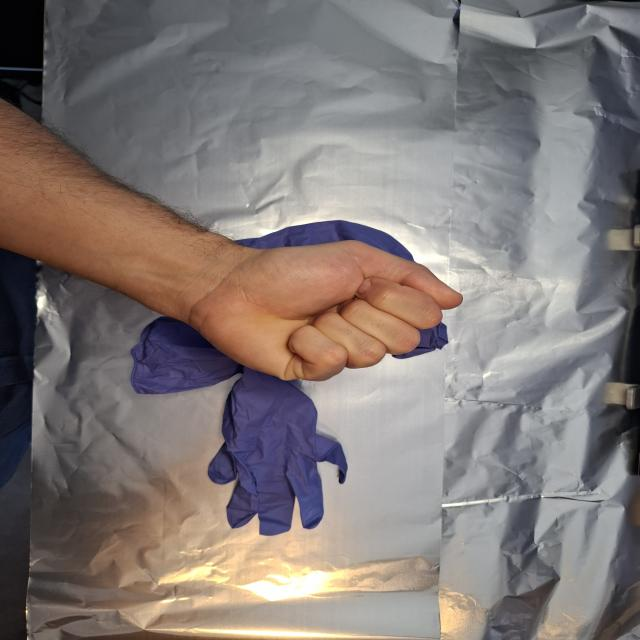glove_off: (168, 237, 466, 384)
